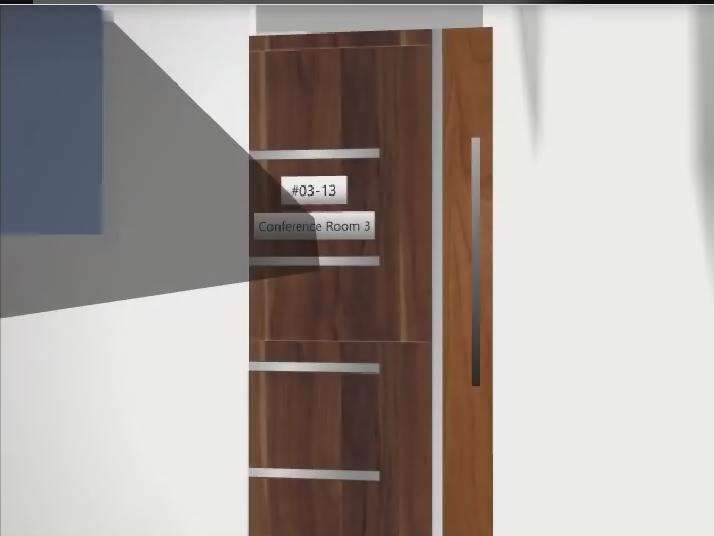door: (249, 26, 493, 536)
